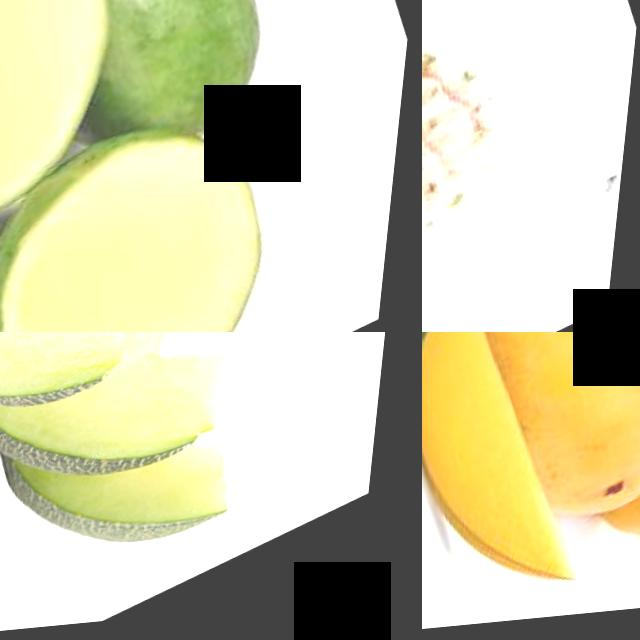mango: (0, 121, 328, 332), (422, 332, 619, 637), (29, 0, 330, 173), (464, 332, 640, 553)
melon: (8, 332, 260, 527), (40, 437, 264, 605), (0, 332, 184, 481)
